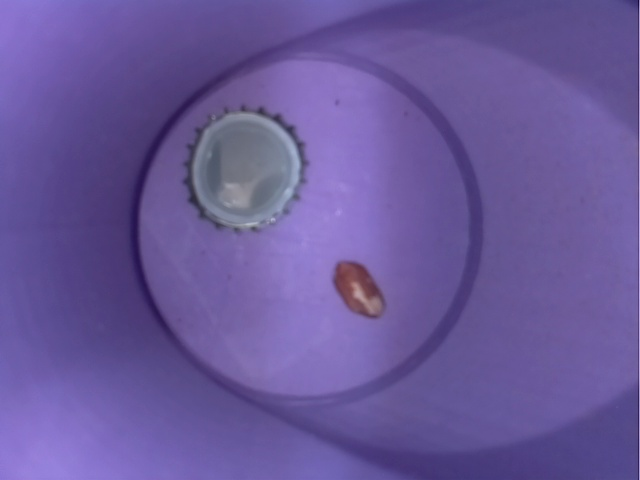capsule: (174, 103, 313, 242)
croquette: (315, 254, 398, 330)
